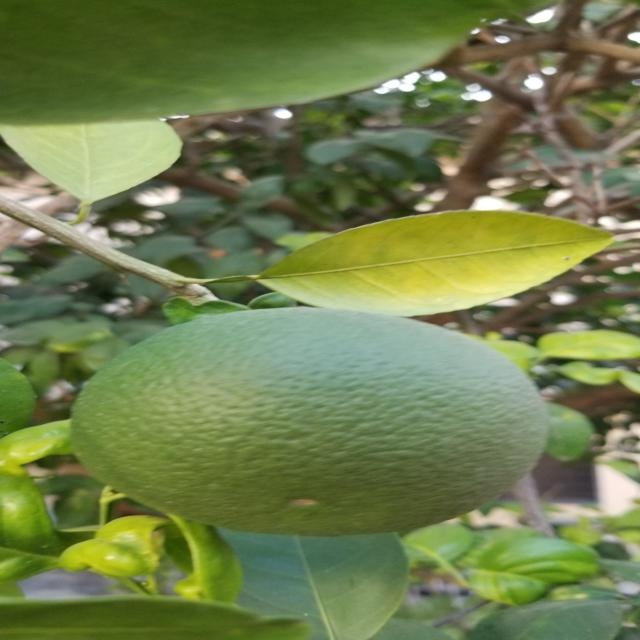agrume: (65, 303, 552, 535)
